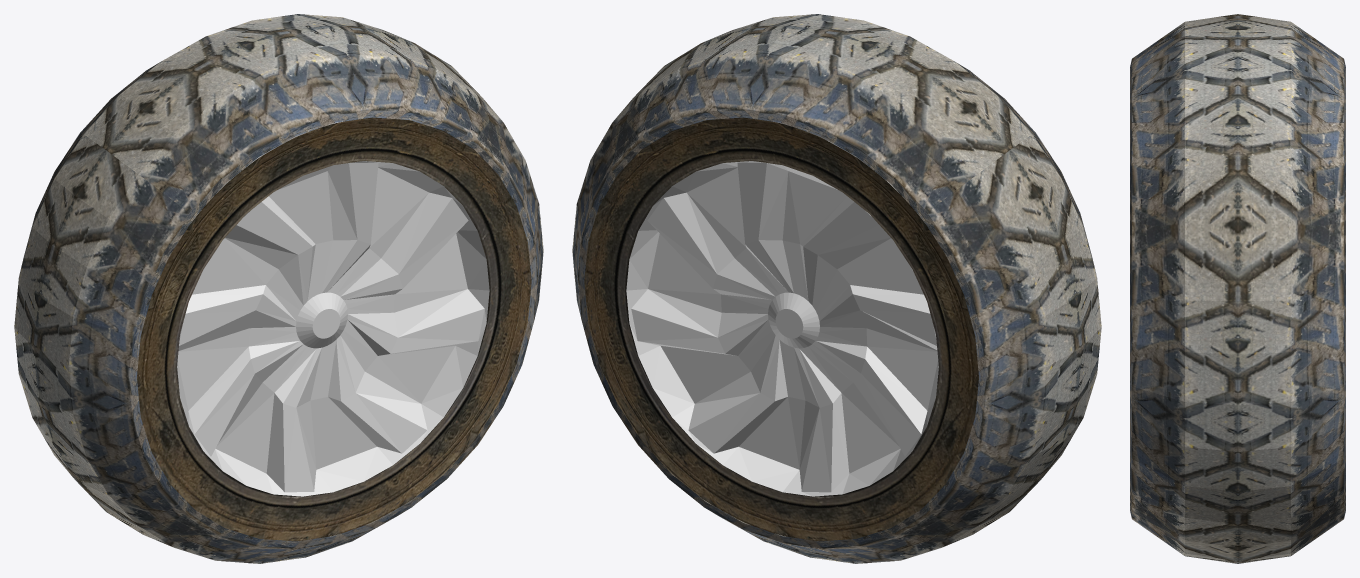
Rendered from Reifen.dae.
3 views of the same model, side by side, from view 1: azimuth 30°, elevation 25°; view 2: azimuth 150°, elevation 25°; view 3: azimuth 270°, elevation 25° (orthographic). The views are drawn at different scales.
Visible parts, largest first — view 1: Cylinder; view 2: Cylinder; view 3: Cylinder.
Boxes of the visible parts, x1,y1,x2,y2 form: Cylinder: (14,14,543,563); Cylinder: (572,14,1101,563); Cylinder: (1130,14,1345,563).
Size of the model in its own units: 0.2199 by 0.0862 by 0.2199.
3 materials, 2 textured.
